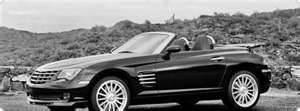car: (26, 30, 271, 111)
